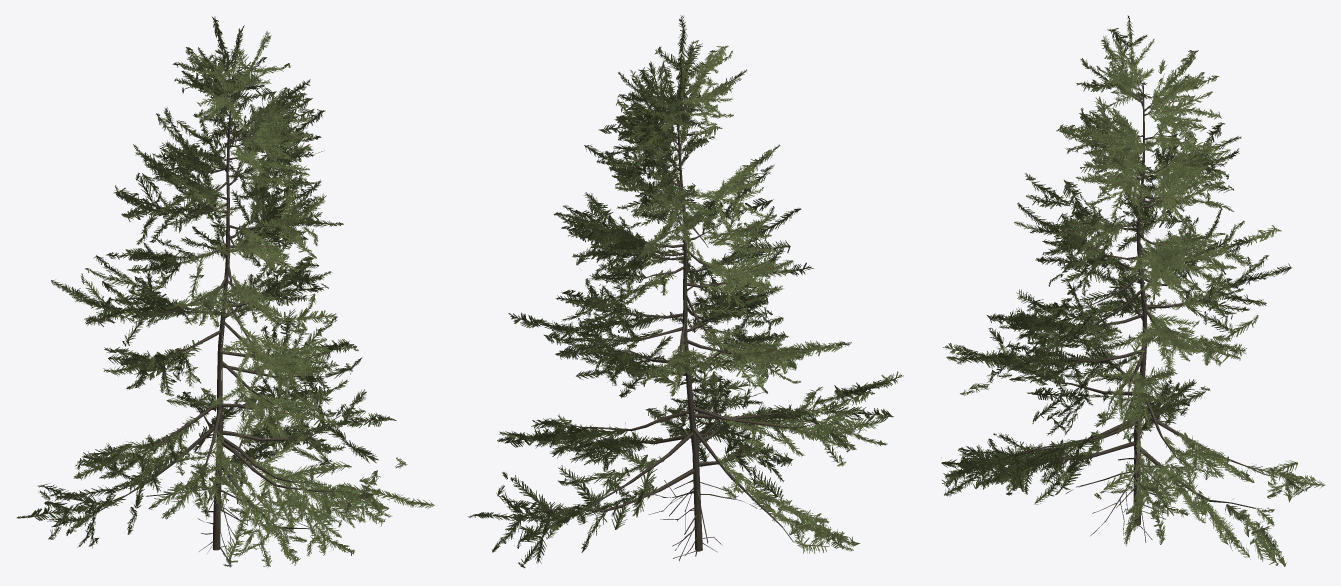
Rendered from fir-sapling-medium-c.glb.
3 renders of one model, left to right at view 1: azimuth 30°, elevation 25°; view 2: azimuth 150°, elevation 25°; view 3: azimuth 270°, elevation 25°, orthographic. The views are drawn at different scales.
Parts seen in each view (by area): view 1: fir_sapling_medium_c; view 2: fir_sapling_medium_c; view 3: fir_sapling_medium_c.
Boxes of the visible parts, <box> form: fir_sapling_medium_c: <box>16,16,434,567</box>; fir_sapling_medium_c: <box>468,15,903,568</box>; fir_sapling_medium_c: <box>941,15,1325,566</box>.
Size of the model in its own units: 4.33 by 5.94 by 4.05.
2 materials, 2 textured.
